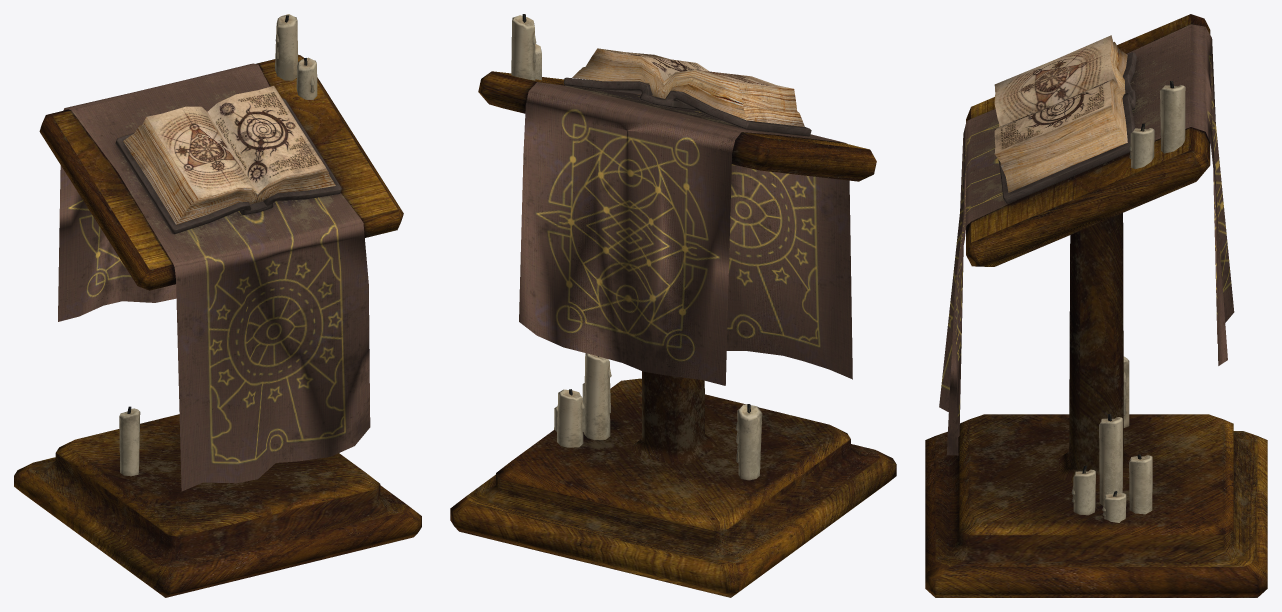
The model's file is book.fbx.
3 views of the same model, side by side, from view 1: azimuth 30°, elevation 25°; view 2: azimuth 150°, elevation 25°; view 3: azimuth 270°, elevation 25° (orthographic). The views are drawn at different scales.
Parts seen in each view (by area): view 1: defaultobject; view 2: defaultobject; view 3: defaultobject.
Boxes of the visible parts, x1,y1,x2,y2 form: defaultobject: [14, 14, 421, 597]; defaultobject: [450, 14, 896, 597]; defaultobject: [925, 14, 1267, 597].
Bounding box in the file's own units: 89.33 × 145 × 89.33.
Materials: 4 (4 with a texture image).
